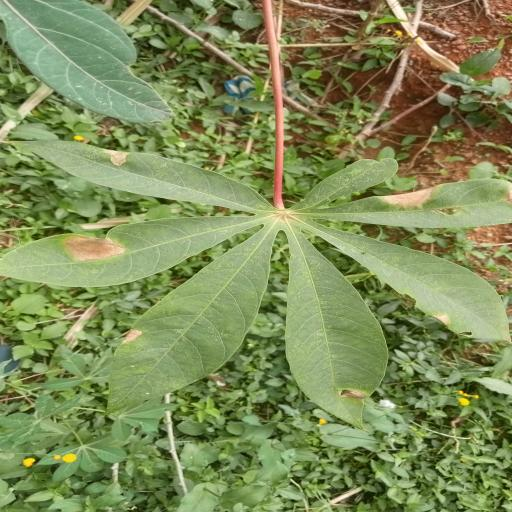Cassava_Root_Rot: (20, 133, 512, 430)
